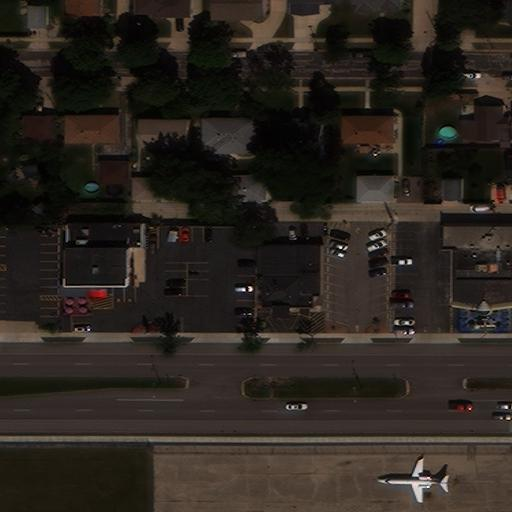Small Civil Transport: (377, 458, 449, 503)
